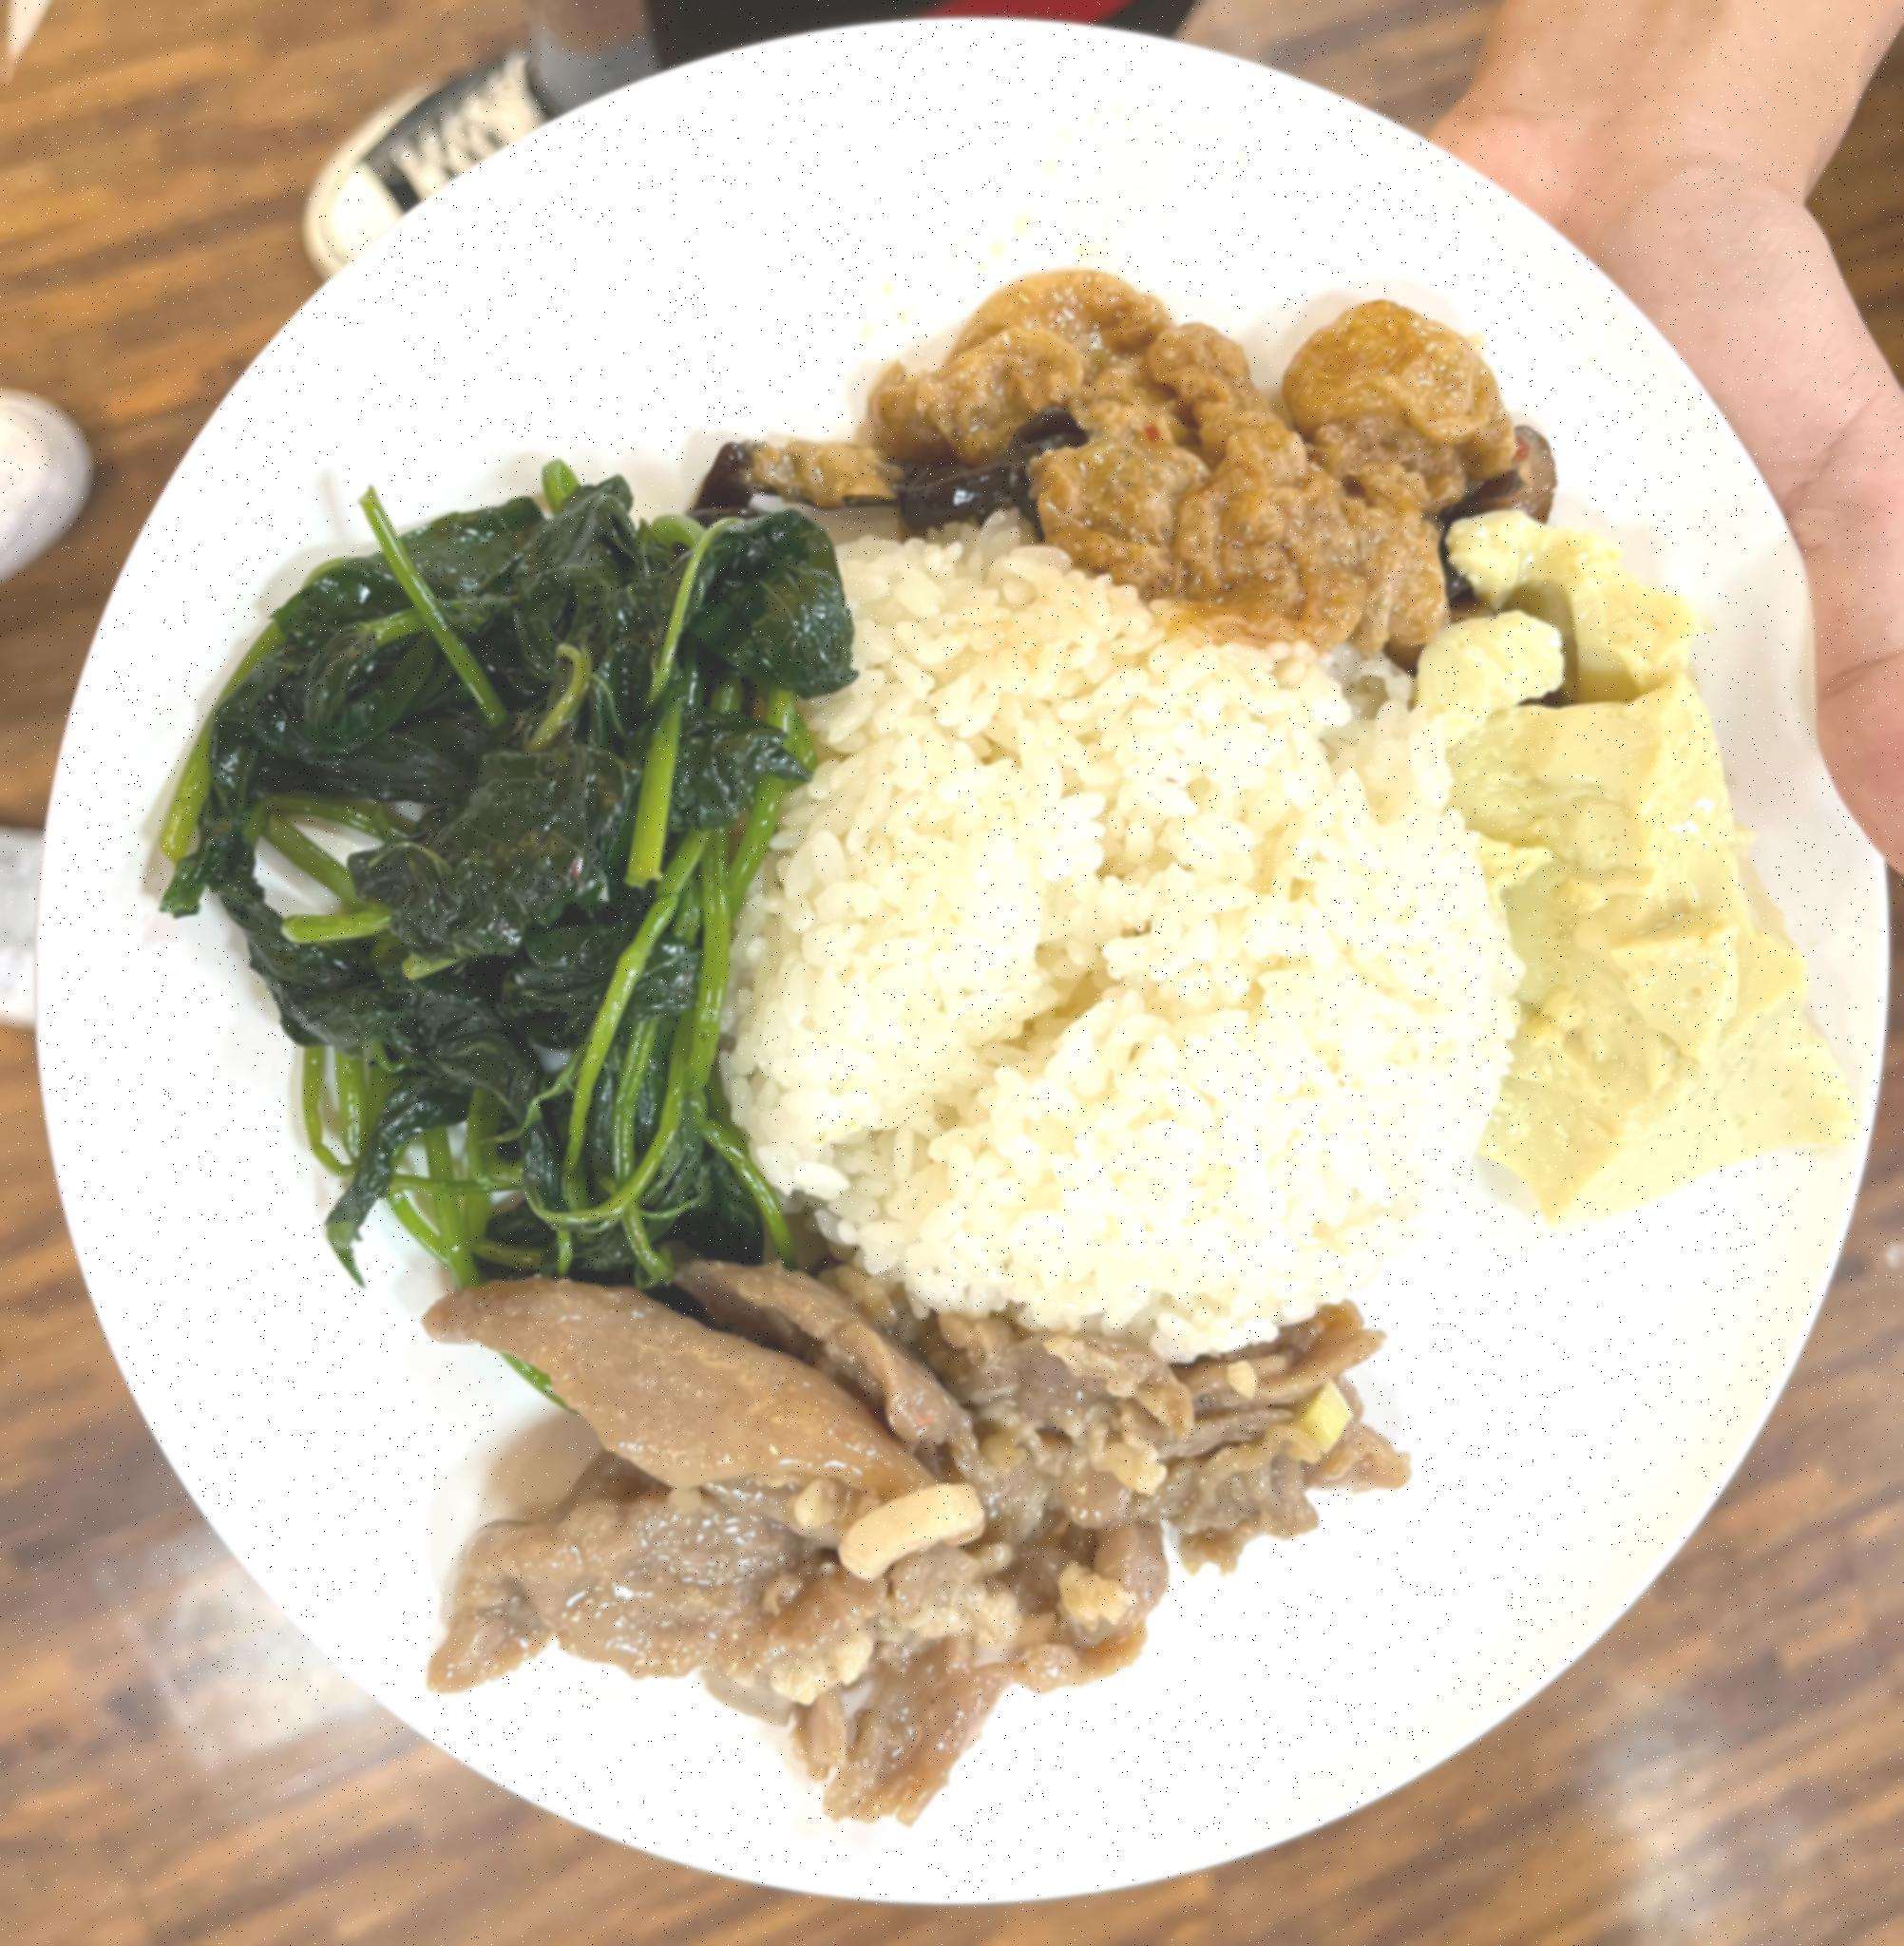big fried chicken leg: (58, 39, 1904, 1897)
big herbal chicken leg: (719, 525, 1514, 1359)
braised fish fillet: (190, 437, 819, 1283), (1450, 506, 1856, 1237), (877, 191, 1530, 619)
braised pork: (392, 1273, 1464, 1802)
